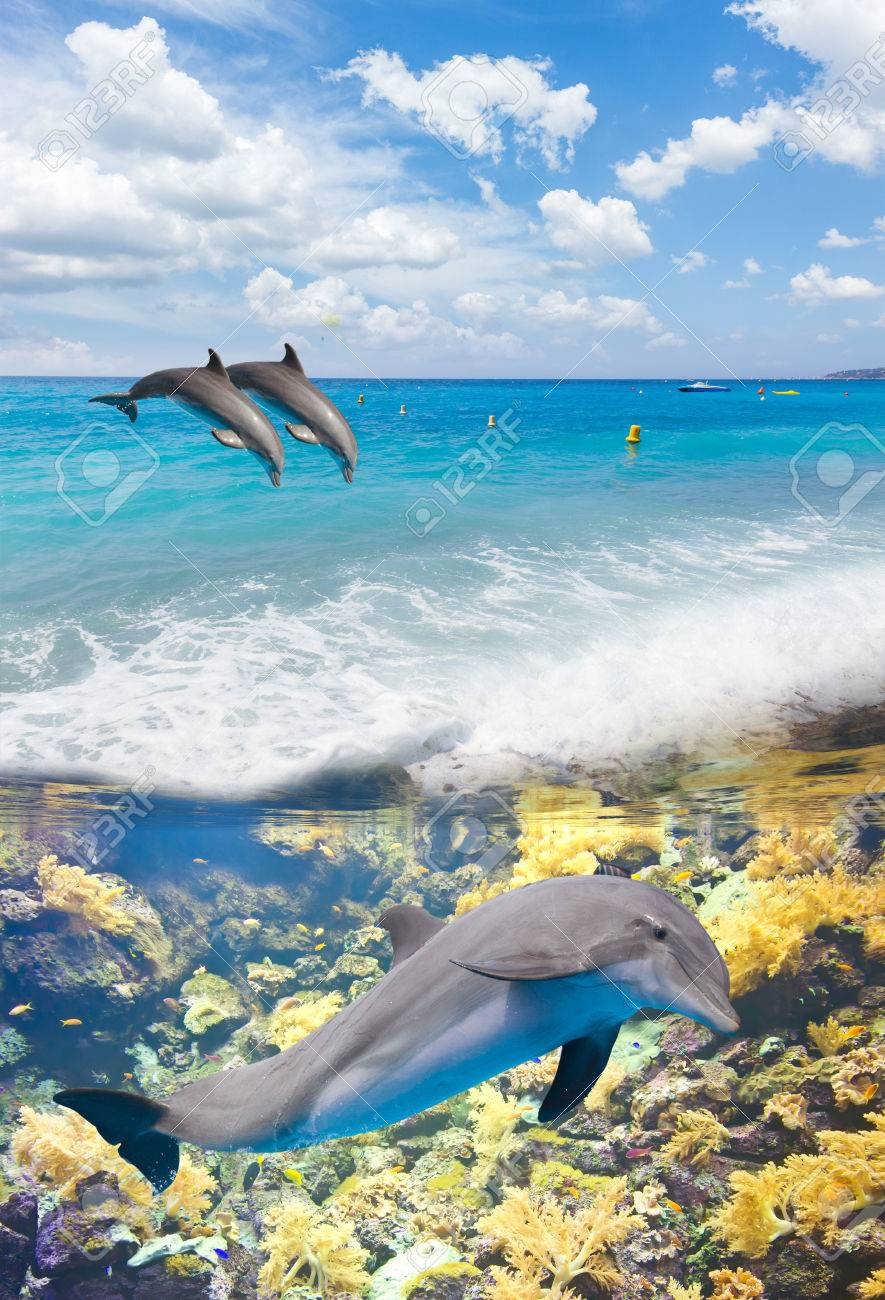dolphin: (74, 868, 730, 1194), (76, 365, 394, 494)
